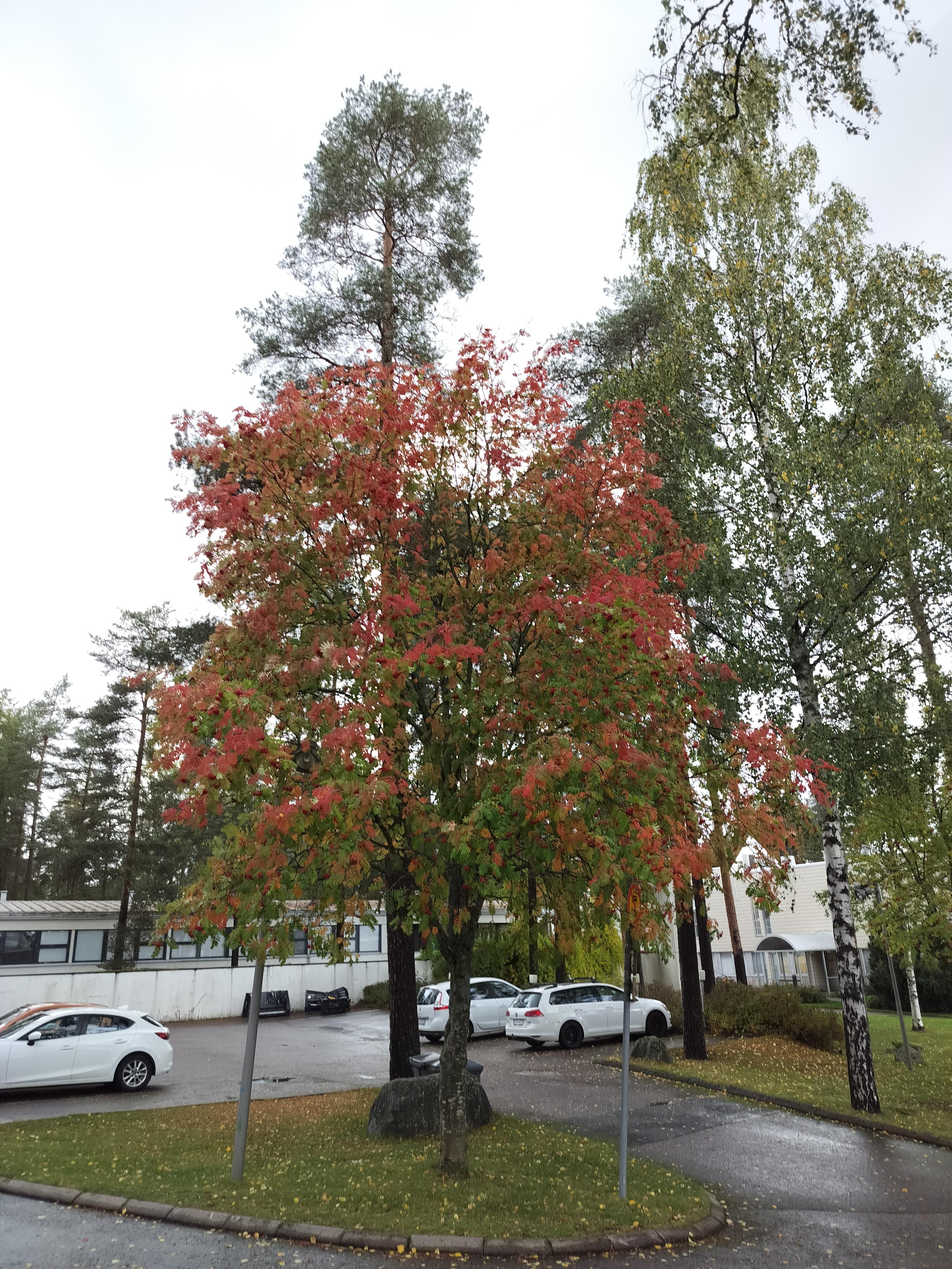Rowan: (139, 391, 715, 1207)
